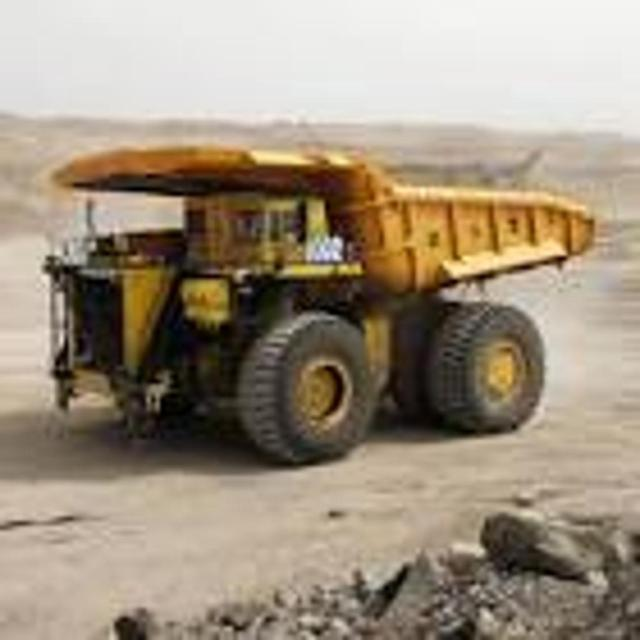dump_truck: (55, 117, 599, 455)
